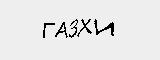А: (51, 20, 69, 41)
Г: (39, 19, 55, 43)
З: (68, 16, 80, 39)
И: (93, 19, 117, 39)
Х: (78, 13, 92, 38)
